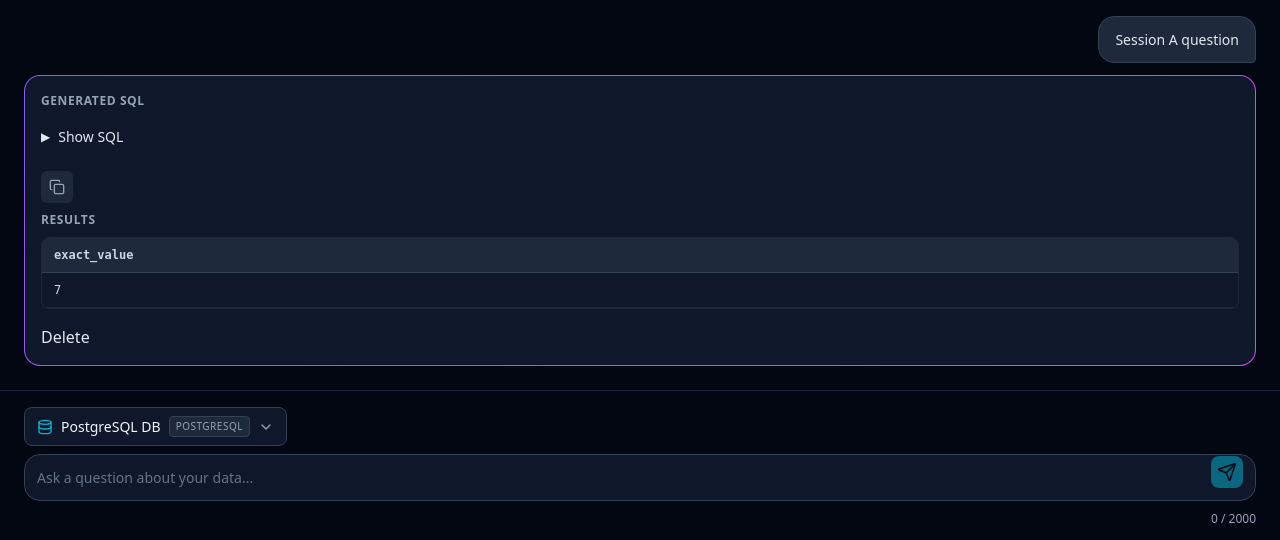
Test: Workspace result deletion recovery › ignores a late delete failure after switching sessions
Click the button with test id "action-delete-result" at (65, 337), box left=41, top=325, right=90, bottom=349
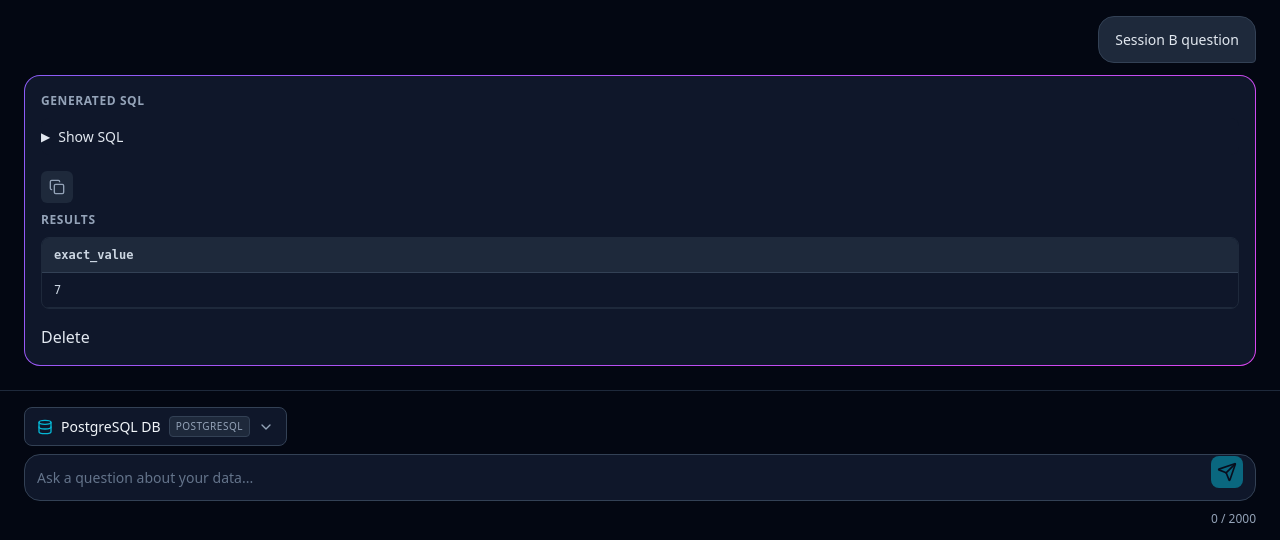
expect the text "Session B question" is shown: met, box left=1115, top=29, right=1239, bottom=50
expect the text "Session A question" is gone: met
